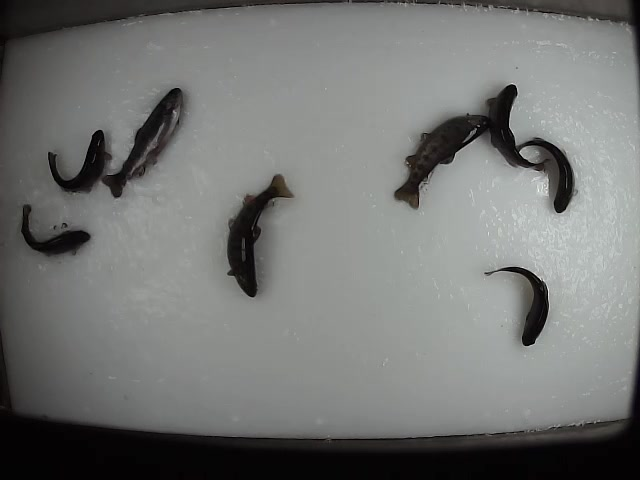fish: (386, 111, 495, 211), (97, 83, 188, 202), (224, 170, 296, 299), (480, 82, 557, 178), (507, 133, 577, 215), (482, 264, 548, 348), (45, 126, 115, 196), (21, 200, 91, 257)
